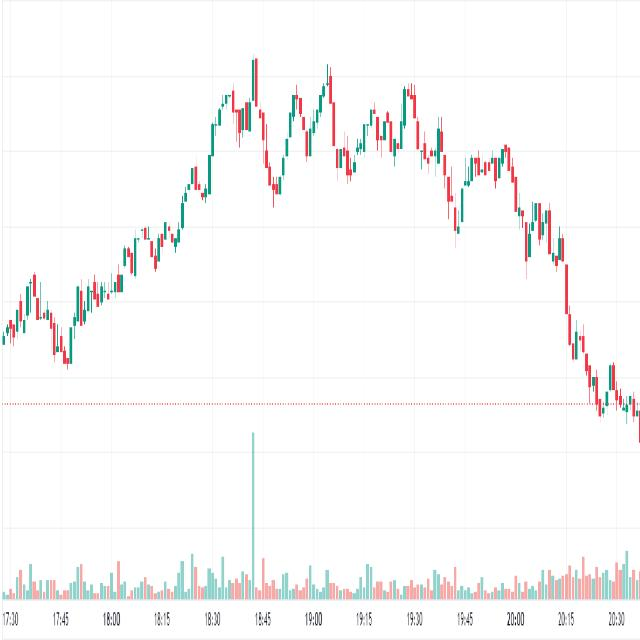Double-Top: (280, 56, 343, 182)
Rounding-Top: (68, 29, 602, 395)
